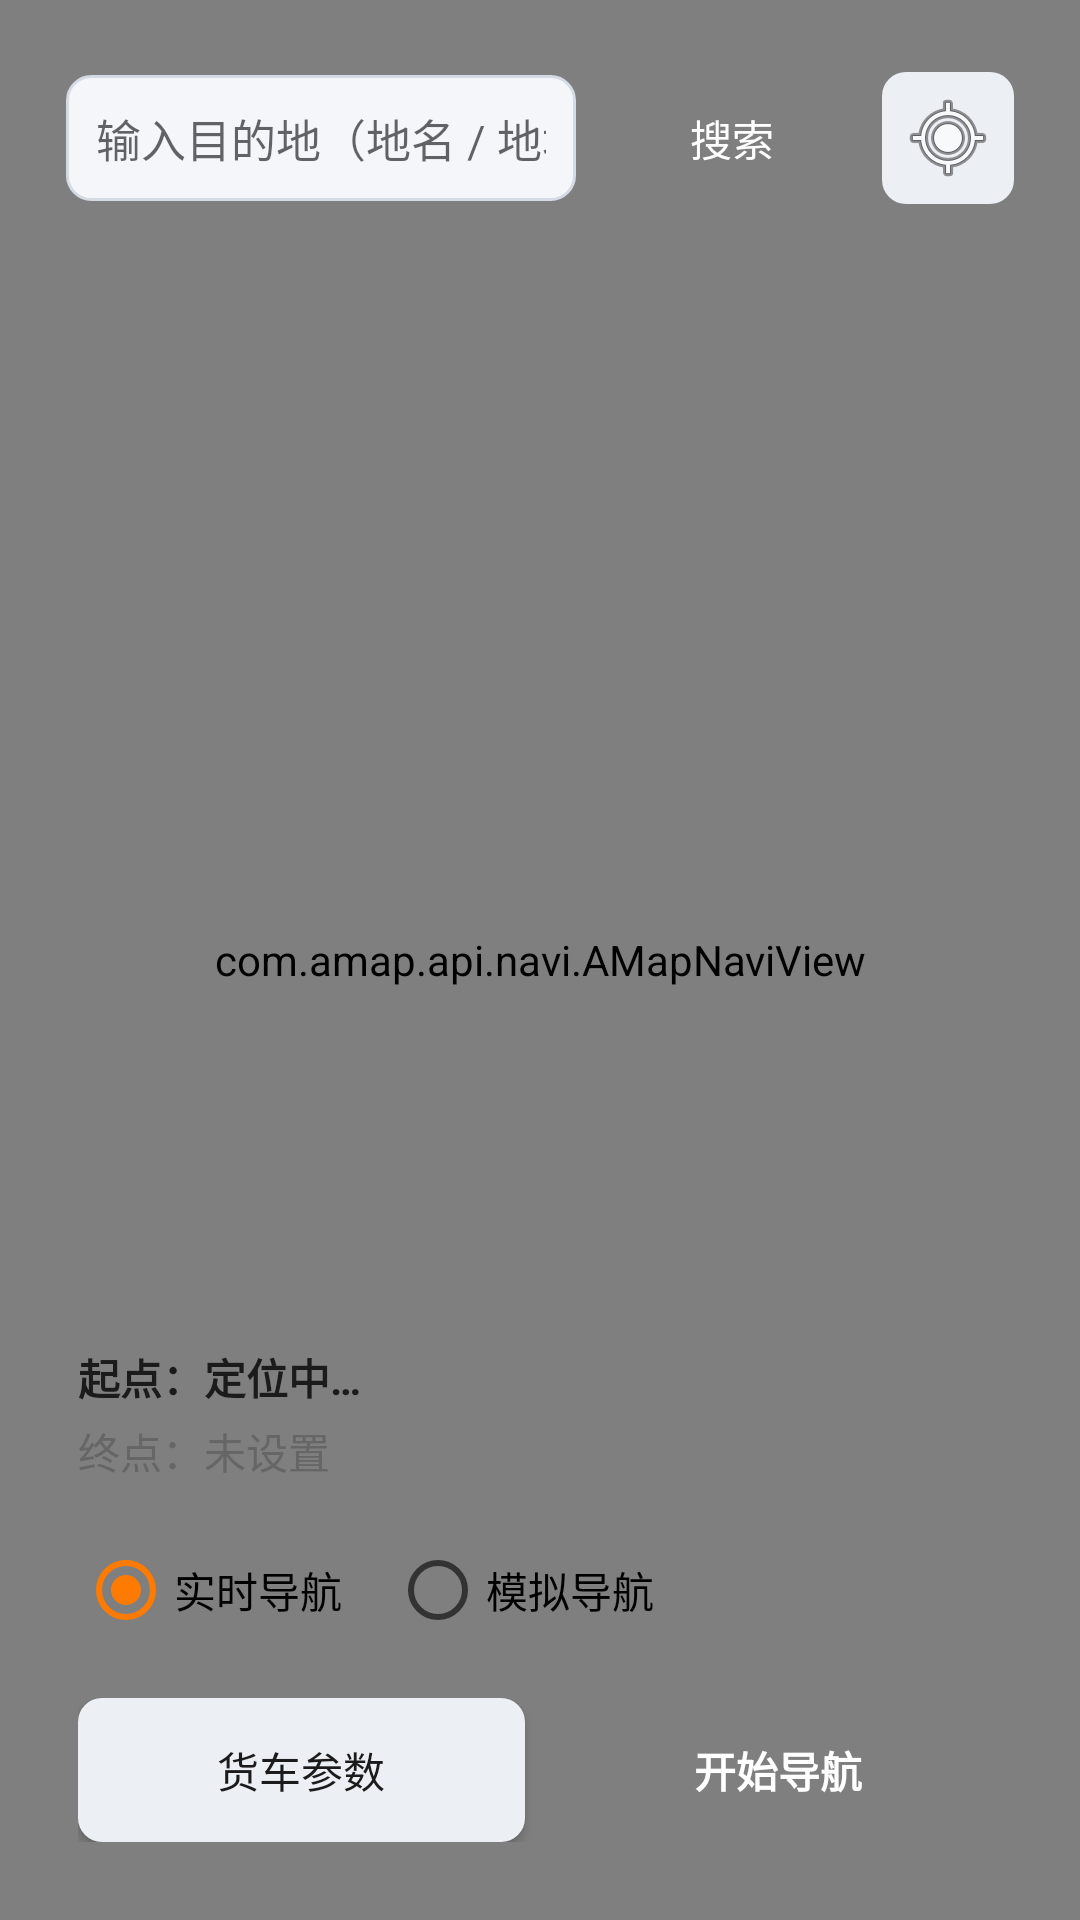

Icon bounding boxes for this 1080x1920 phone screenshot, format [x1, y1, x2, y2]:
定位: [882, 72, 1014, 204]
